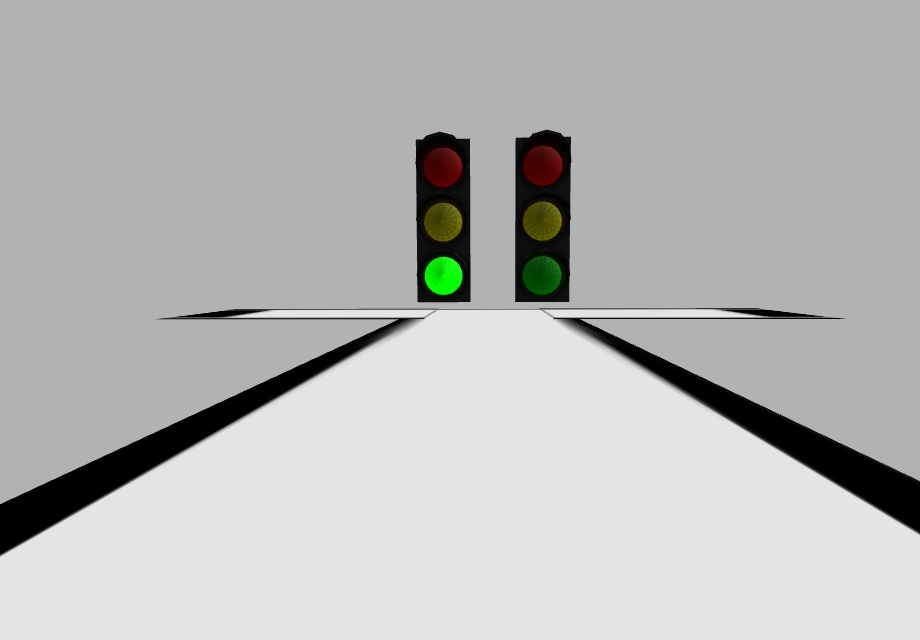green_off: (525, 256, 562, 297)
green_on: (424, 258, 463, 299)
